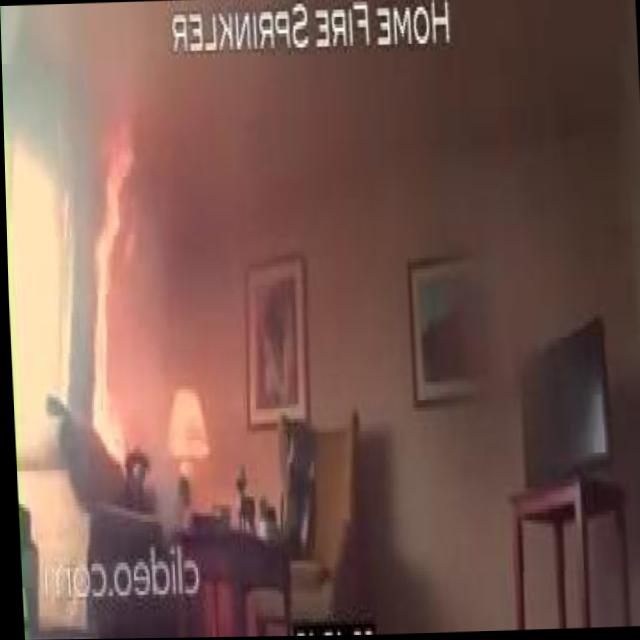fire: (77, 111, 145, 458)
